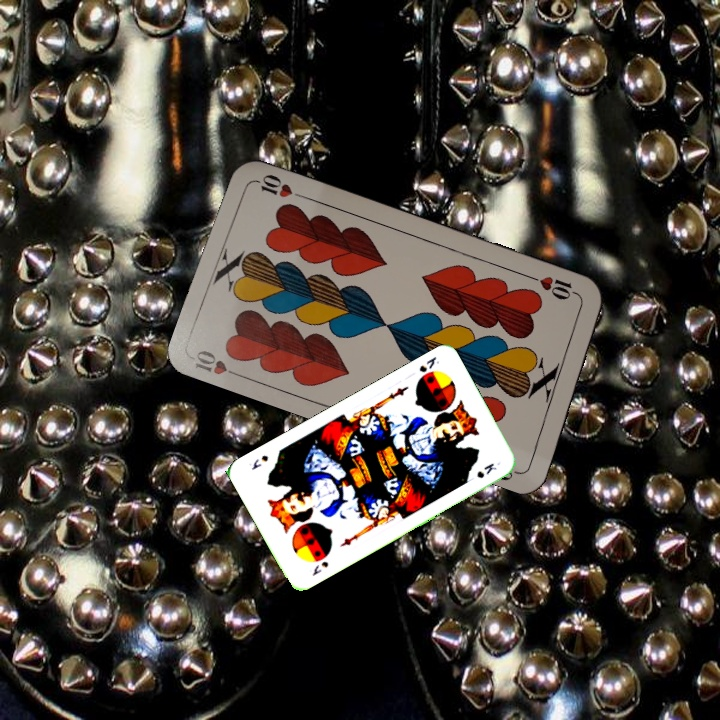H10: (189, 346, 247, 381), (526, 271, 583, 303)
SK: (415, 352, 442, 375), (308, 557, 331, 579)
